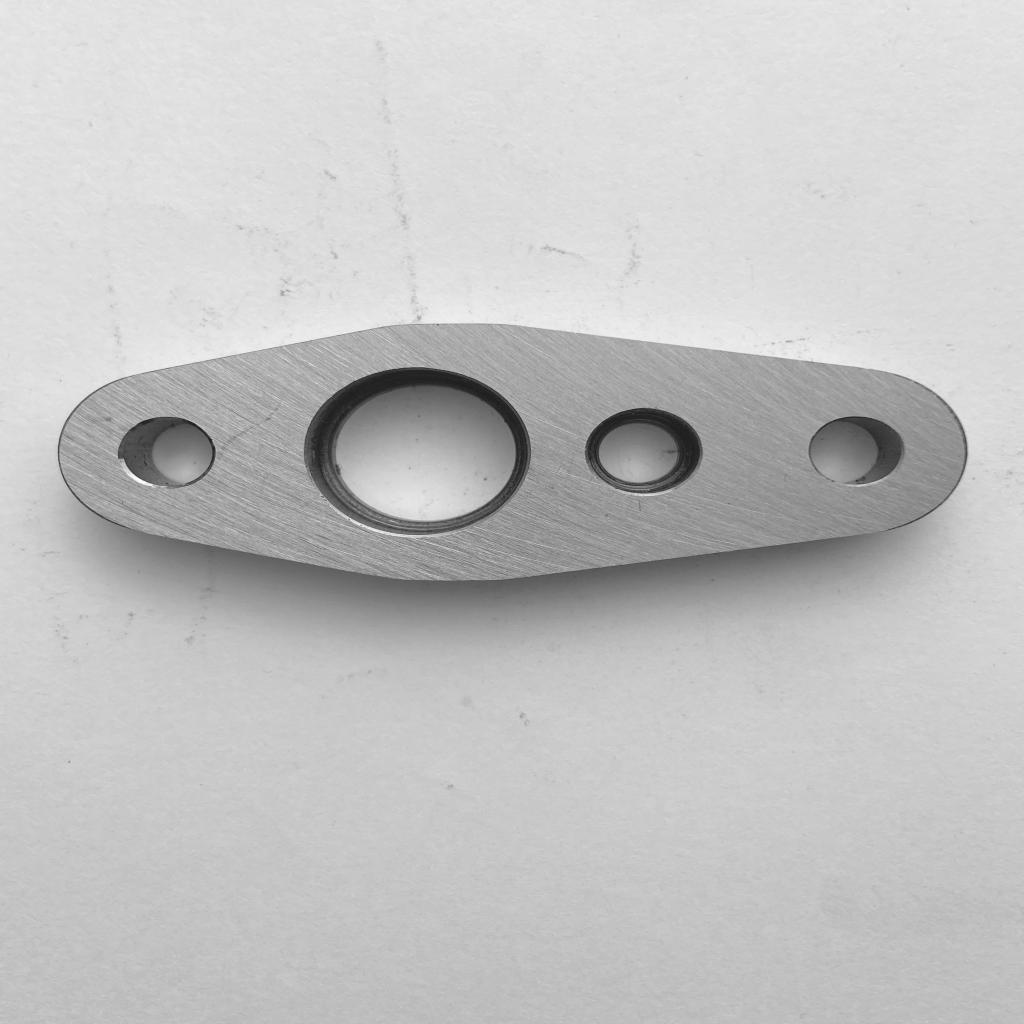lines: (214, 398, 283, 460)
